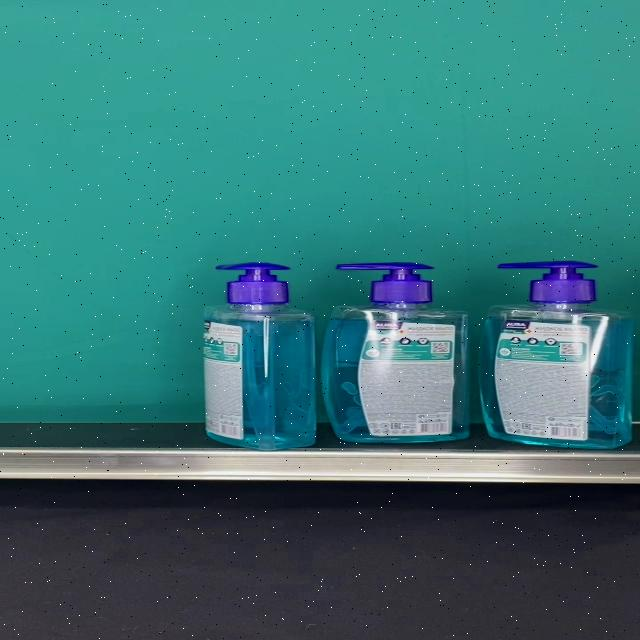Bottle: (479, 261, 632, 450), (322, 262, 470, 443), (203, 262, 317, 450)
Cap: (336, 262, 434, 304), (498, 261, 598, 302), (215, 262, 291, 304)
